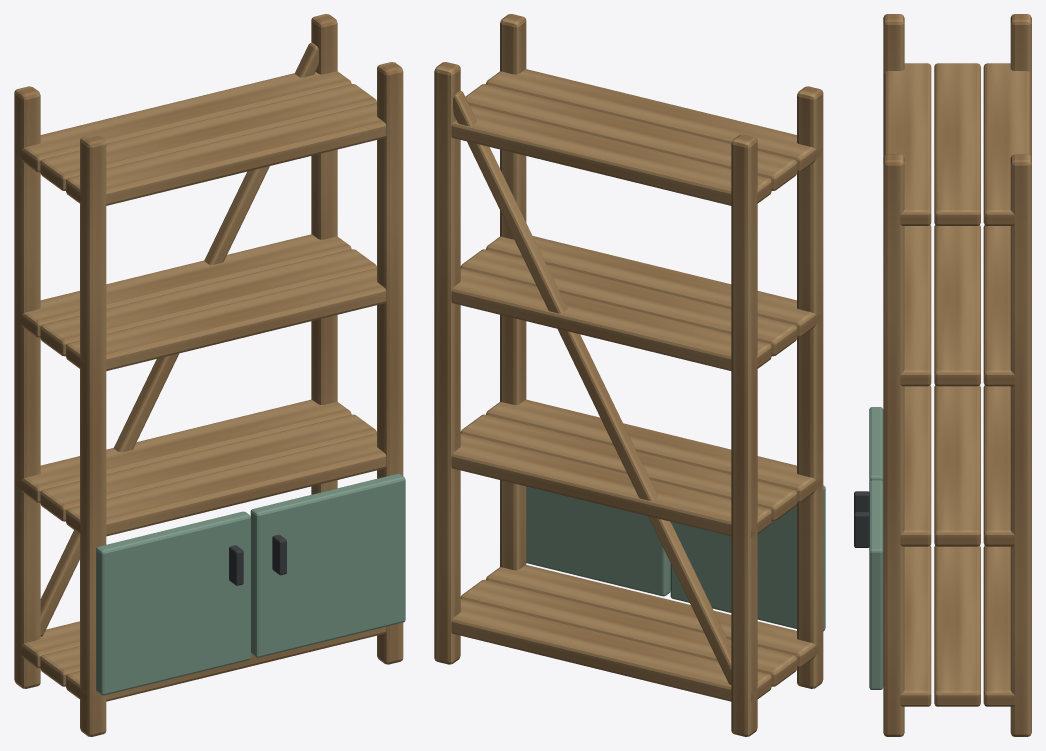
The model's file is pantry.glb.
3 renders of one model, left to right at view 1: azimuth 30°, elevation 25°; view 2: azimuth 150°, elevation 25°; view 3: azimuth 270°, elevation 25°, orthographic. The views are drawn at different scales.
Parts seen in each view (by area): view 1: lower_door.001, lower_door, post.001, post, post.002, shelf_20, shelf_30, shelf_10, shelf_11, shelf_21, shelf_31, shelf_32 (+7 smaller); view 2: post.001, post.003, post, lower_door.001, back_brace, shelf_02, shelf_32, shelf_12, shelf_22, lower_door, shelf_30, shelf_31 (+7 smaller); view 3: post.002, post.003, shelf_31, shelf_11, shelf_21, shelf_01, shelf_32, shelf_30, shelf_02, shelf_00, shelf_20, shelf_22 (+8 smaller).
Boxes of the visible parts, x1,y1,x2,y2 form: lower_door.001: [250, 473, 405, 657]; lower_door: [96, 511, 250, 695]; post.001: [14, 86, 40, 688]; post: [80, 134, 106, 736]; post.002: [377, 62, 403, 664]; shelf_20: [66, 268, 386, 371]; shelf_30: [66, 103, 386, 205]; shelf_10: [66, 433, 386, 537]; shelf_11: [40, 414, 376, 521]; shelf_21: [40, 249, 376, 356]; shelf_31: [40, 84, 376, 190]; shelf_32: [15, 71, 351, 172]; post.001: [731, 134, 757, 736]; post.003: [434, 62, 460, 664]; post: [797, 86, 823, 688]; lower_door.001: [526, 486, 670, 596]; back_brace: [453, 91, 731, 684]; shelf_02: [451, 599, 771, 702]; shelf_32: [451, 105, 771, 205]; shelf_12: [451, 433, 771, 537]; shelf_22: [451, 268, 771, 371]; lower_door: [670, 485, 825, 631]; shelf_30: [486, 69, 822, 172]; shelf_31: [465, 84, 797, 190]; post.002: [883, 154, 904, 736]; post.003: [1010, 154, 1031, 736]; shelf_31: [934, 63, 980, 225]; shelf_11: [934, 385, 980, 546]; shelf_21: [934, 225, 980, 386]; shelf_01: [934, 545, 980, 706]; shelf_32: [983, 63, 1030, 225]; shelf_30: [884, 63, 931, 225]; shelf_02: [983, 545, 1025, 706]; shelf_00: [888, 545, 931, 706]; shelf_20: [888, 225, 931, 386]; shelf_22: [983, 225, 1025, 386].
Bounding box in the file's own units: 1 × 1.8 × 0.5025.
Materials: 4 (2 with a texture image).
